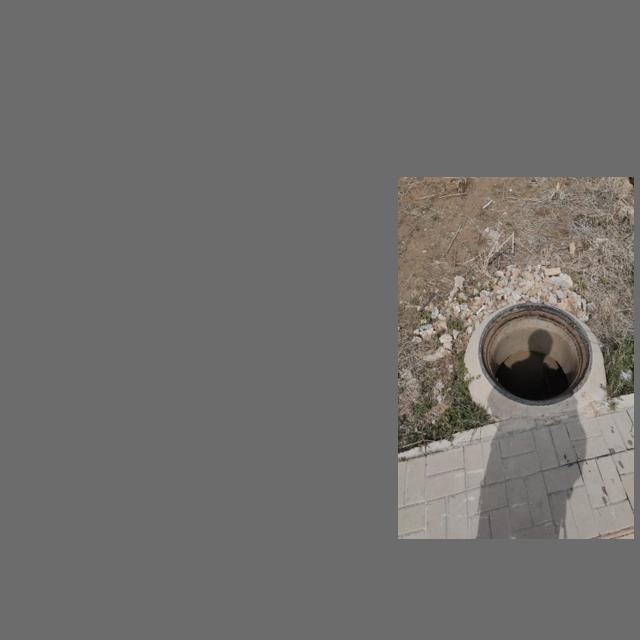lose: (478, 302, 594, 407)
